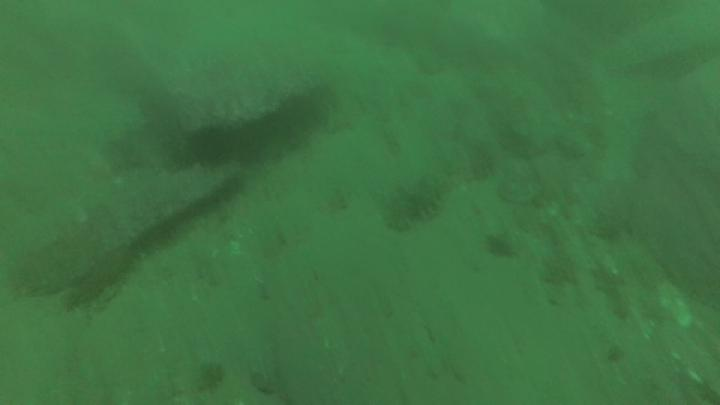echinus: (190, 125, 232, 170)
holothurian: (385, 171, 449, 227)
